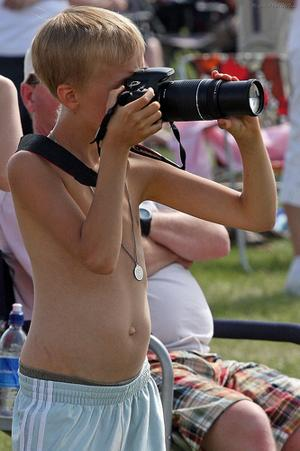person: (8, 8, 278, 448)
